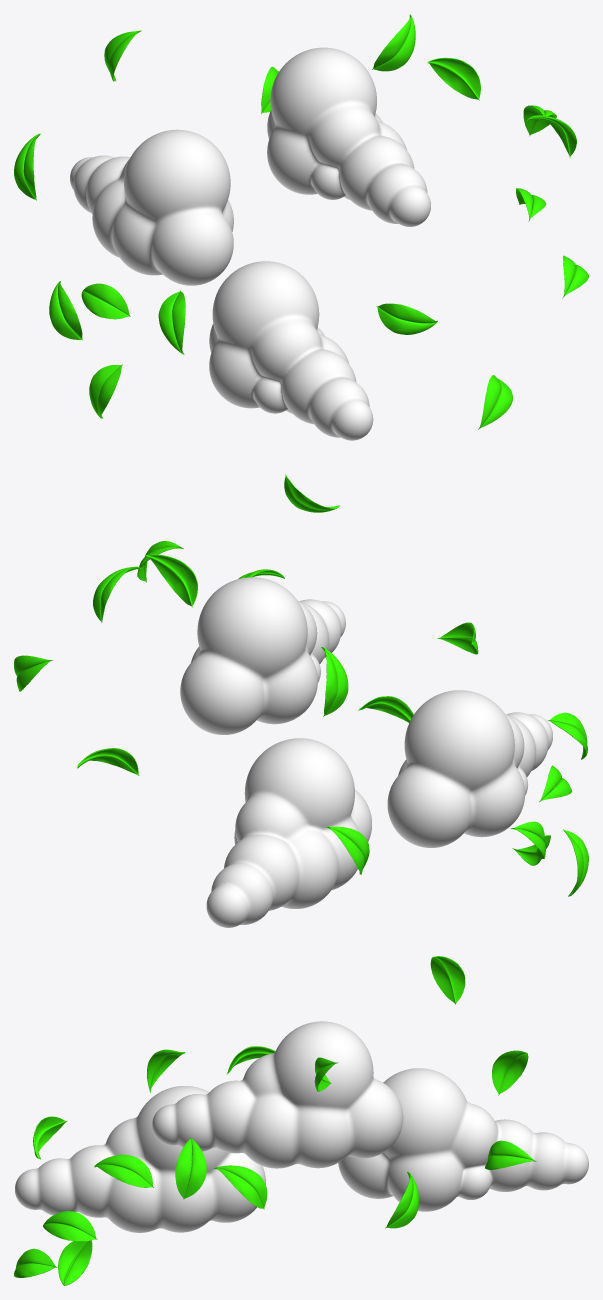
The model's file is Cloud.gltf.
The picture shows the model from 3 angles, top to bottom: view 1: azimuth 30°, elevation 25°; view 2: azimuth 150°, elevation 25°; view 3: azimuth 270°, elevation 25°; orthographic projection. The views are drawn at different scales.
Visible parts, largest first — view 1: Mball.001, Mball.002, Mball.020, leaf.005, leaf, leaf.004, leaf.015, leaf.012, leaf.001, leaf.009, leaf.010, leaf.006 (+4 smaller); view 2: Mball.020, Mball.001, Mball.002, leaf.015, leaf.014, leaf.006, leaf.007, leaf.005, leaf.003, leaf.010, leaf, leaf.001 (+4 smaller); view 3: Mball.002, Mball.020, Mball.001, leaf.013, leaf.002, leaf.011, leaf.003, leaf.014, leaf.008, leaf.006, leaf.007, leaf.005 (+5 smaller).
Boxes of the visible parts, x1,y1,x2,y2 form: Mball.001: (209,261,373,440); Mball.002: (267,47,430,226); Mball.020: (70,129,233,285); leaf.005: (427,57,480,100); leaf: (376,303,437,334); leaf.004: (81,283,130,319); leaf.015: (372,14,415,71); leaf.012: (49,281,82,340); leaf.001: (158,290,185,354); leaf.009: (89,364,122,418); leaf.010: (478,375,512,429); leaf.006: (14,133,40,200); Mball.020: (206,738,371,927); Mball.001: (387,690,552,847); Mball.002: (180,577,345,734); leaf.015: (145,554,197,607); leaf.014: (321,647,348,716); leaf.006: (325,826,369,874); leaf.007: (77,748,139,775); leaf.005: (14,655,52,691); leaf.003: (93,566,140,623); leaf.010: (358,696,413,722); leaf: (437,622,478,654); leaf.001: (548,712,587,759); Mball.002: (152,1021,403,1168); Mball.020: (338,1068,588,1211); Mball.001: (15,1086,265,1232); leaf.013: (175,1138,206,1199); leaf.002: (94,1154,153,1187); leaf.011: (43,1211,97,1241); leaf.003: (214,1165,267,1209); leaf.014: (430,956,465,1004); leaf.008: (58,1240,92,1285); leaf.006: (492,1050,528,1095); leaf.007: (485,1140,536,1169); leaf.005: (385,1171,419,1228).
Bounding box in the file's own units: 22.82 × 15.89 × 25.1.
